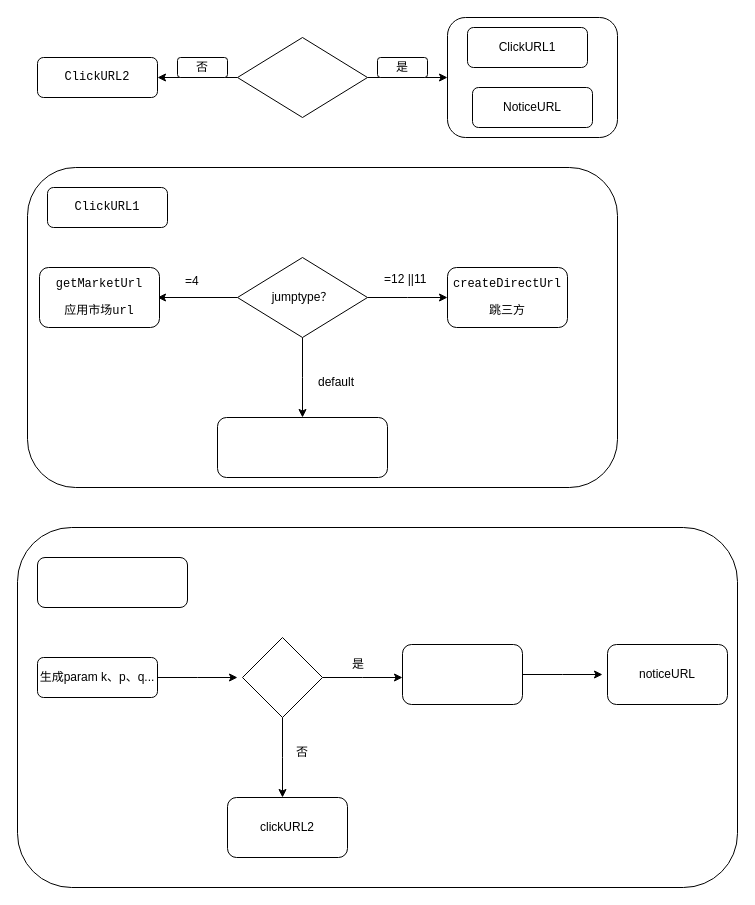
The diagram is 755 pixels wide and 905 high, and some of its shapes have lost their labels. Each missing label, with the centre of its shape:
&notice=1: point 462,674
CreateTrackUrl 一般是3s的tracking url: point 302,447
notice?: point 282,677
NoticeURL&&clickURL2: point 112,582
ping-mode==1？: point 302,77
